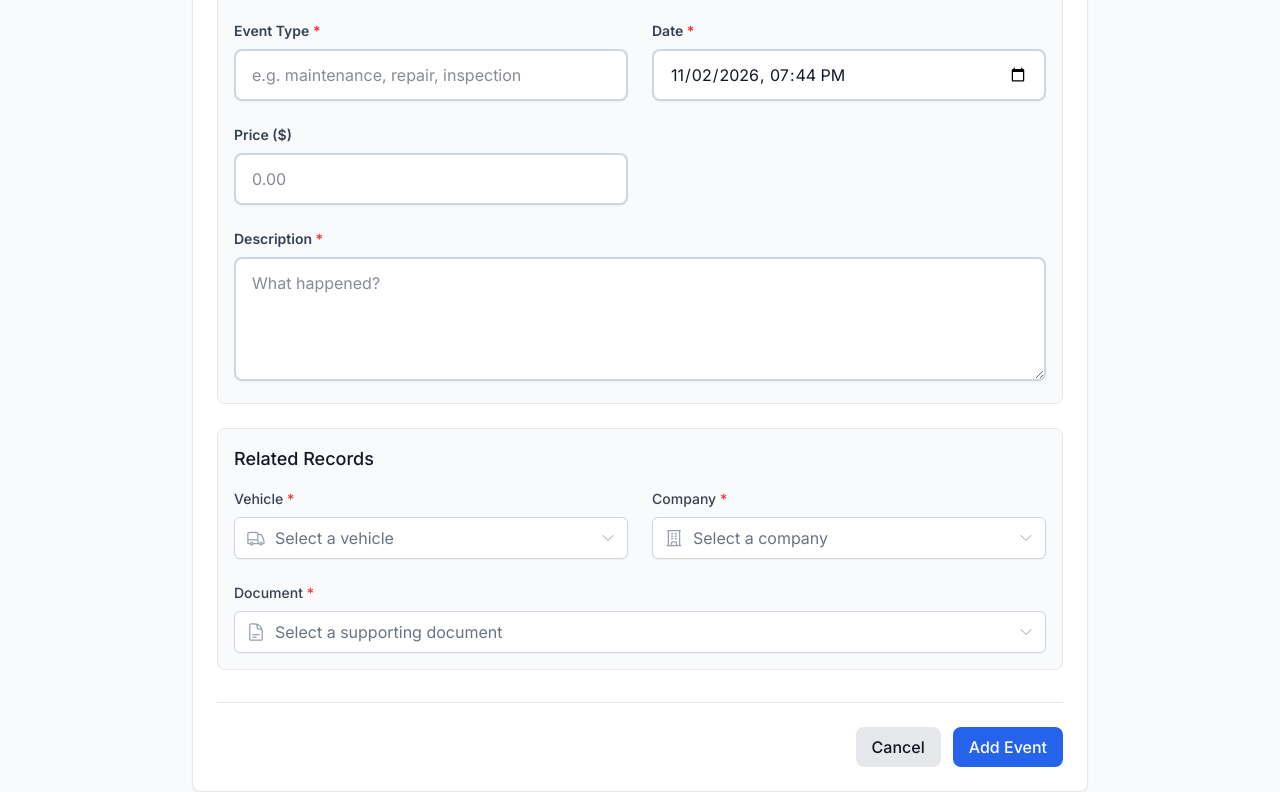
Test: EventForm › blocks an empty submit and lists what is missing
(page scrolled)
Click the button "Add Event".
click(1008, 747)  # box [953,727,1063,767]
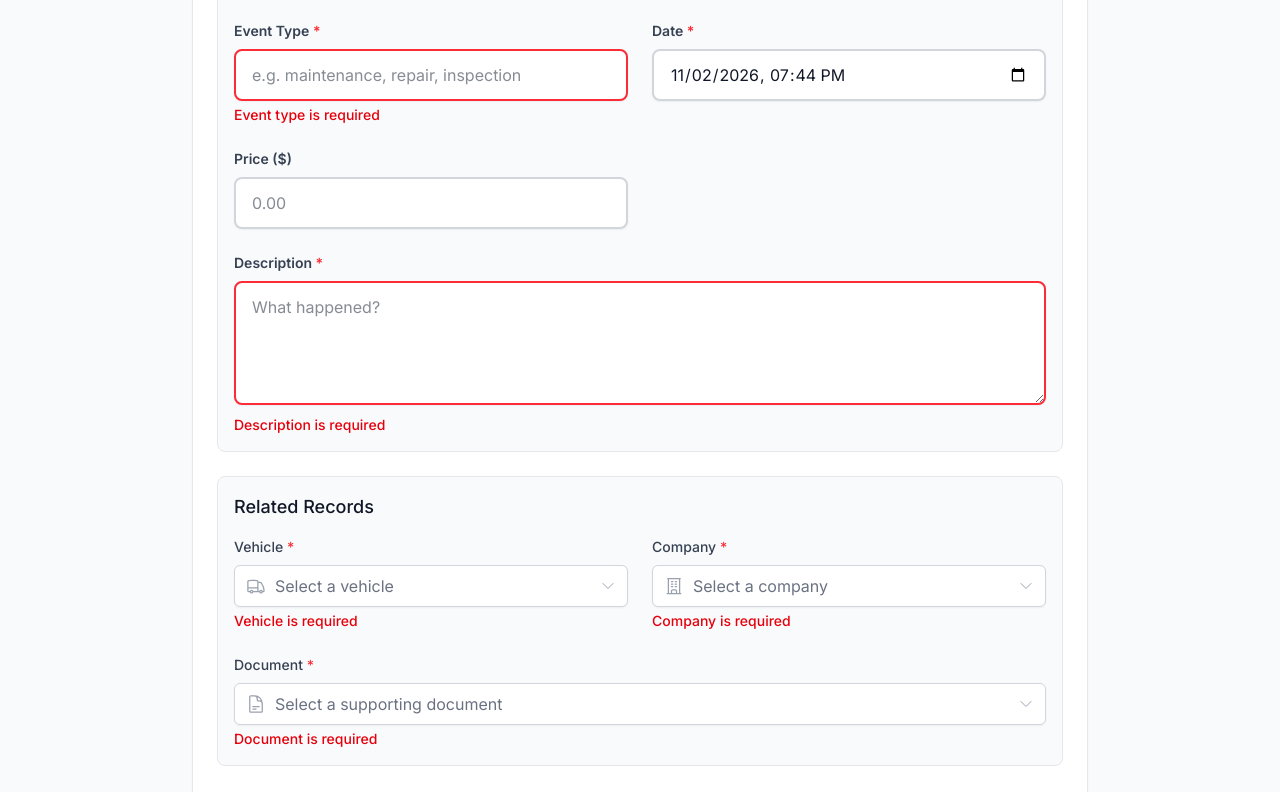
Now the text "Event type is required" is shown, box [234,106,380,123]
Now the text "Description is required" is shown, box [234,416,385,433]
Now the text "Vehicle is required" is shown, box [234,612,358,629]
